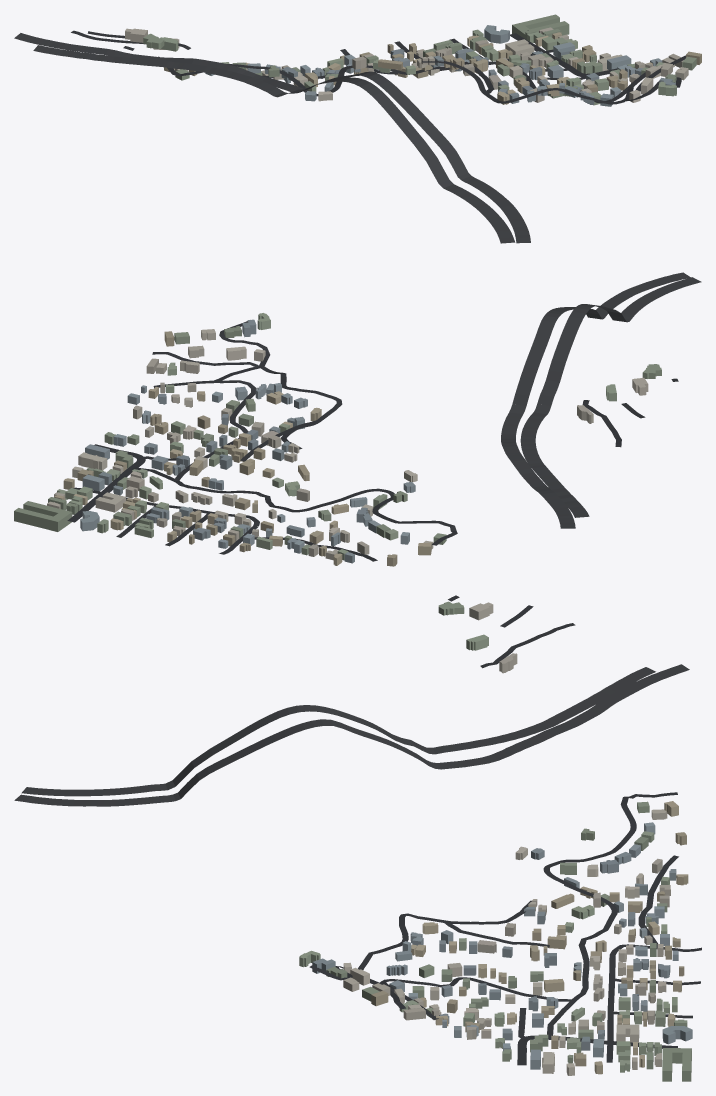
File: tile_4_3.glb
3 views of the same model, one above another, from view 1: azimuth 30°, elevation 25°; view 2: azimuth 150°, elevation 25°; view 3: azimuth 270°, elevation 25° (orthographic). The views are drawn at different scales.
Visible parts, largest first — view 1: bld_4_3, road_4_3; view 2: bld_4_3, road_4_3; view 3: bld_4_3, road_4_3.
Boxes of the visible parts, x1,y1,x2,y2 form: bld_4_3: (125, 14, 701, 106); road_4_3: (14, 30, 685, 243); bld_4_3: (14, 313, 661, 566); road_4_3: (67, 272, 701, 561); bld_4_3: (299, 601, 692, 1081); road_4_3: (14, 595, 701, 1065).
Size of the model in its own units: 818 by 275 by 830.
